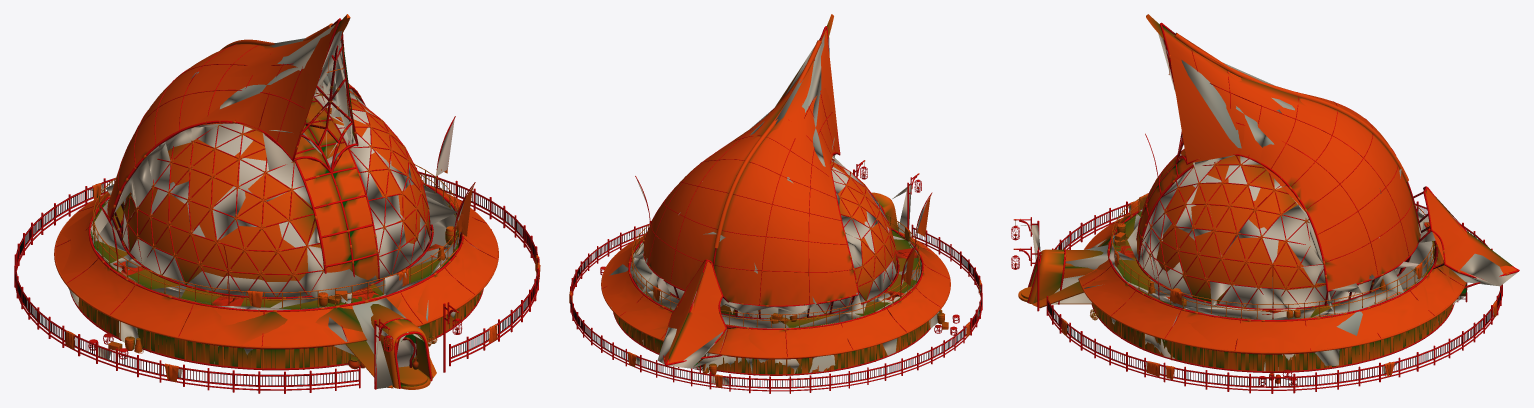
The model's file is KB3D_GAE_BldgMD_H.glb.
The picture shows the model from 3 angles, left to right: view 1: azimuth 30°, elevation 25°; view 2: azimuth 150°, elevation 25°; view 3: azimuth 270°, elevation 25°; orthographic projection. The views are drawn at different scales.
Visible parts, largest first — view 1: L0, L2, L1; view 2: L0, L1, L2; view 3: L0, L1, L2.
Boxes of the visible parts, <box> form: L0: <box>14,17,540,393</box>; L2: <box>68,25,495,388</box>; L1: <box>43,14,539,387</box>; L0: <box>569,20,982,393</box>; L1: <box>570,14,980,384</box>; L2: <box>609,35,980,385</box>; L0: <box>1011,19,1519,393</box>; L1: <box>1011,14,1513,376</box>; L2: <box>1017,24,1517,375</box>.
Size of the model in its own units: 33.12 by 22.31 by 36.36.
